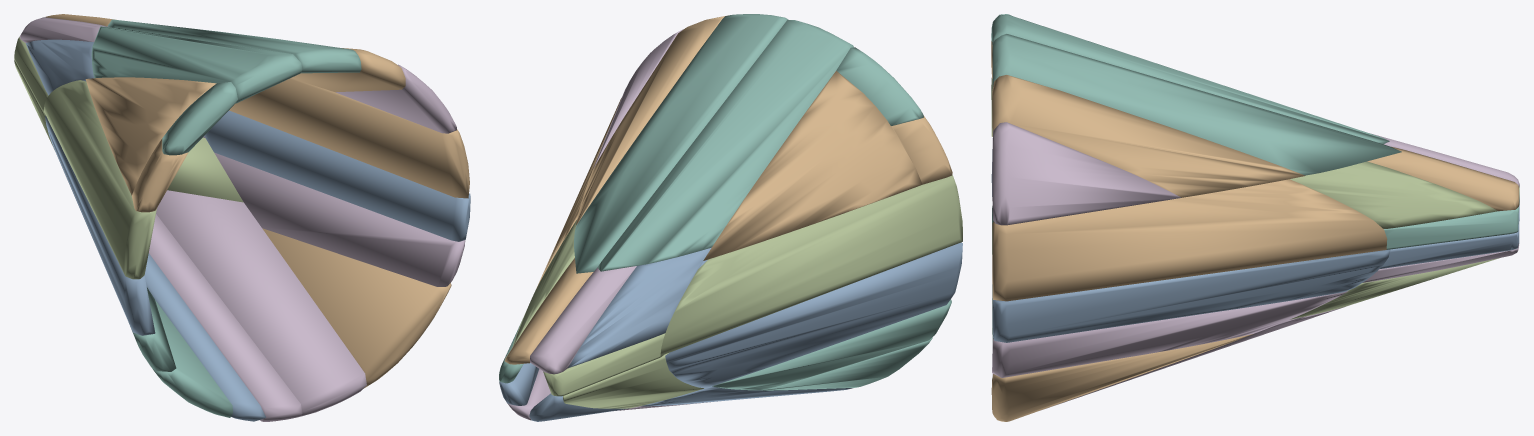
The picture shows the model from 3 angles, left to right: view 1: azimuth 30°, elevation 25°; view 2: azimuth 150°, elevation 25°; view 3: azimuth 270°, elevation 25°; orthographic projection.
Bounding box in the file's own units: 1.24 × 1.25 × 1.62.
